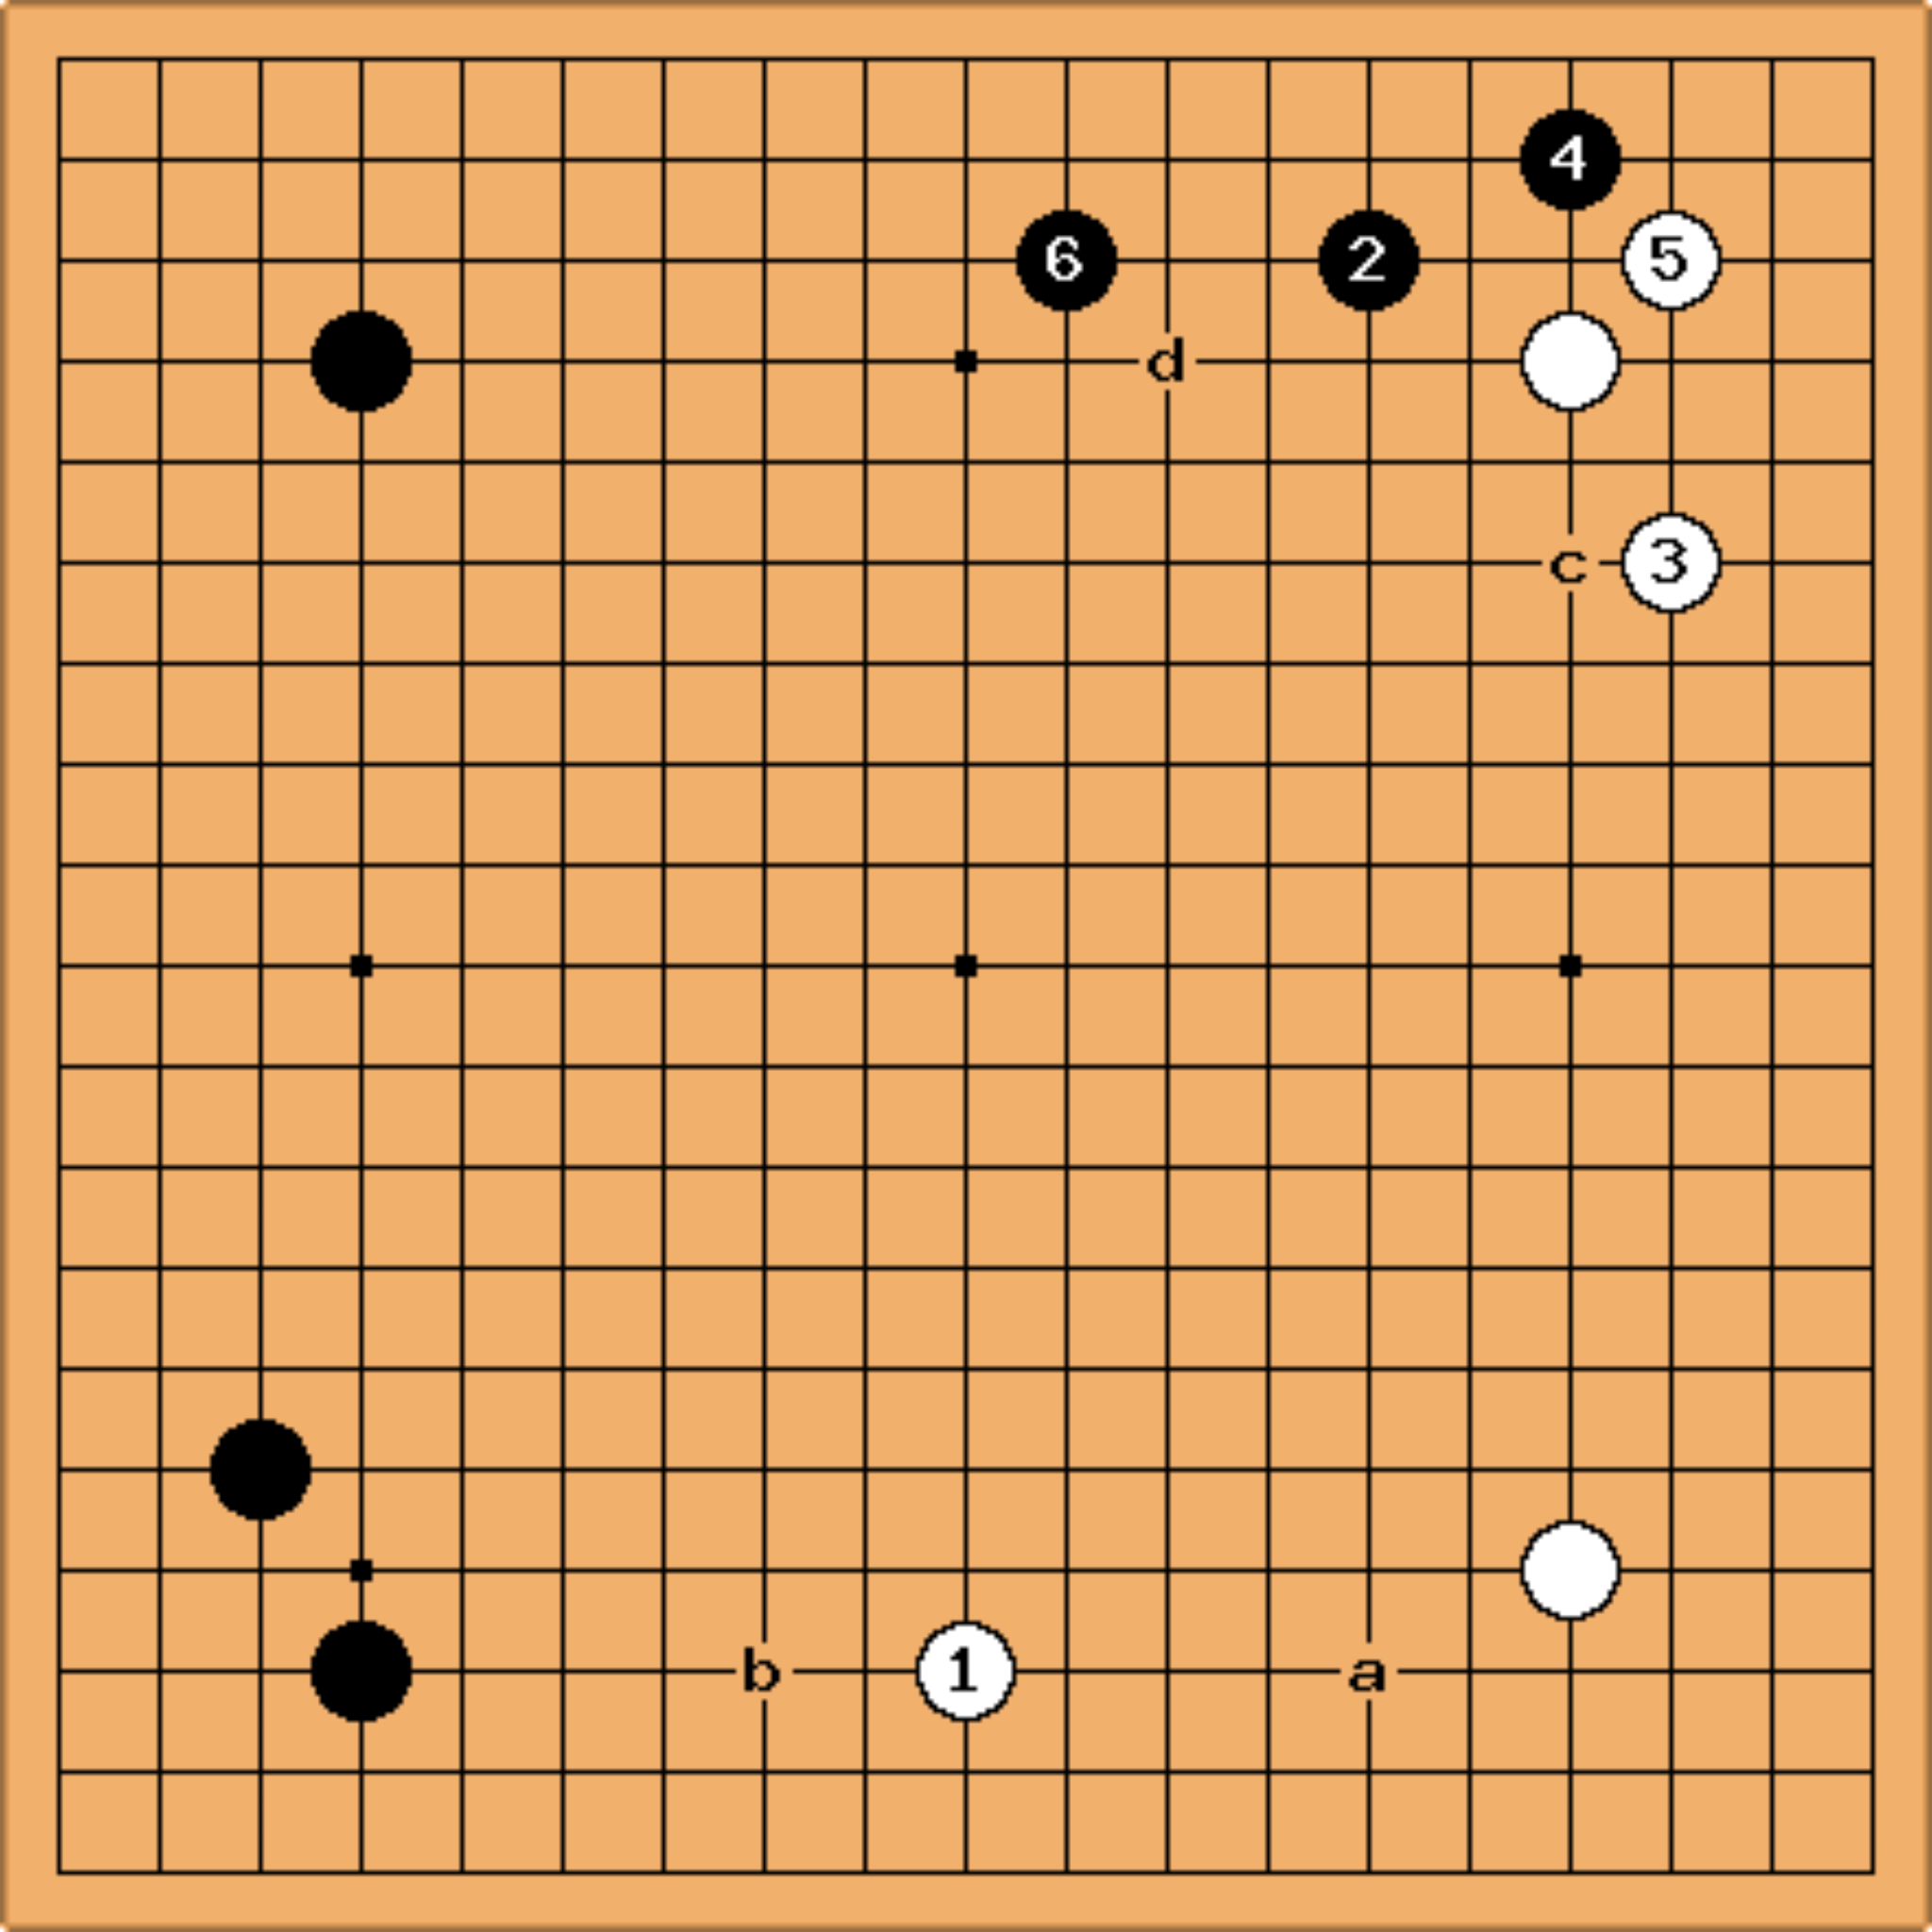black: (1014, 207, 1115, 308), (308, 308, 409, 409), (308, 1619, 409, 1718), (1316, 207, 1415, 308), (207, 1417, 308, 1516), (1518, 108, 1617, 207)
white: (918, 1624, 1008, 1714), (1624, 212, 1714, 303), (1523, 1523, 1614, 1614), (1523, 313, 1614, 403), (1624, 515, 1714, 605)
